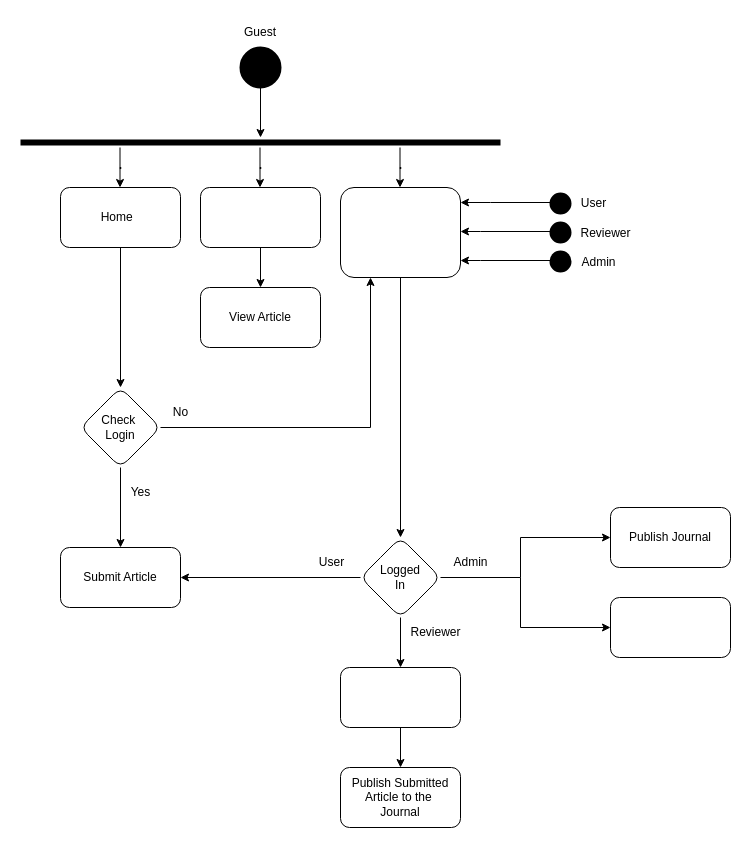
The diagram is 748 pixels wide and 845 high, and some of its shapes have lost their labels. Here are the shapes that lost their labels. From the top down, the box of each, then its label:
(200, 186, 320, 248): Journals
(340, 186, 460, 278): Register / Login
(610, 596, 730, 658): Add Reviewer to the Journal
(340, 666, 460, 728): Review Submitted Article
